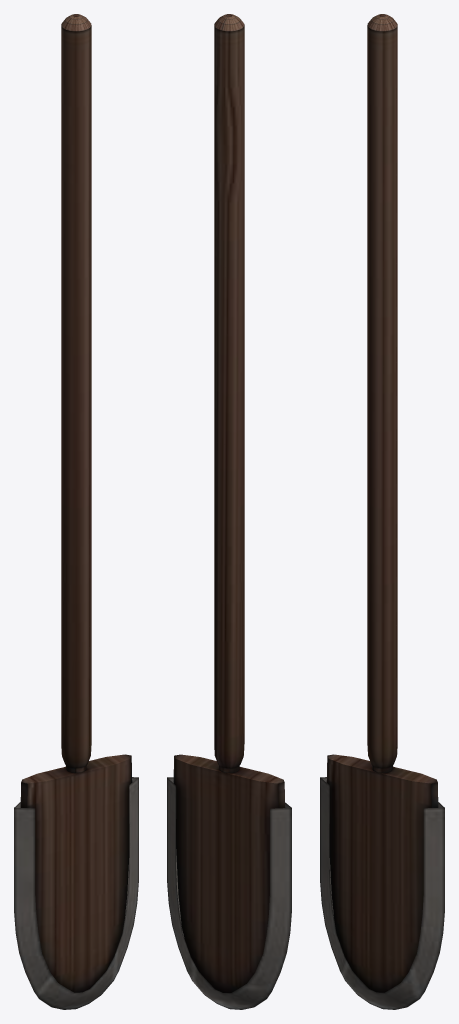
File: wpn_shovel.glb
3 views of the same model, side by side, from view 1: azimuth 30°, elevation 25°; view 2: azimuth 150°, elevation 25°; view 3: azimuth 330°, elevation 25° (orthographic).
Parts seen in each view (by area): view 1: pPlane4, pPlane7; view 2: pPlane4, pPlane7; view 3: pPlane4, pPlane7.
Boxes of the visible parts, box(x1,y1,x2,y2) form: pPlane4: box(20, 14, 132, 992); pPlane7: box(14, 777, 138, 1009); pPlane4: box(173, 14, 285, 992); pPlane7: box(167, 777, 291, 1009); pPlane4: box(326, 14, 438, 992); pPlane7: box(320, 777, 444, 1009).
Bounding box in the file's own units: 1 × 7.61 × 0.2102.
2 materials, 2 textured.
